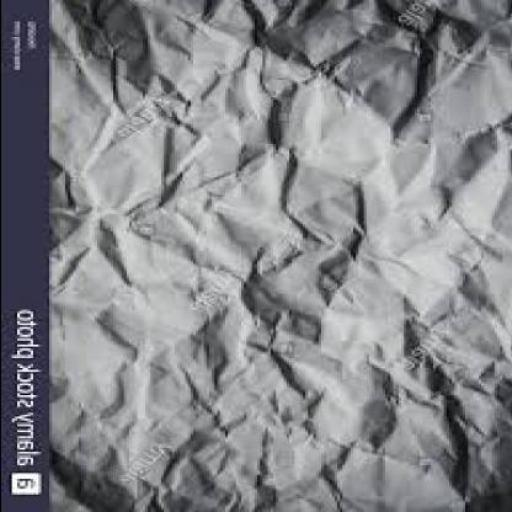paper: (48, 1, 511, 512)
